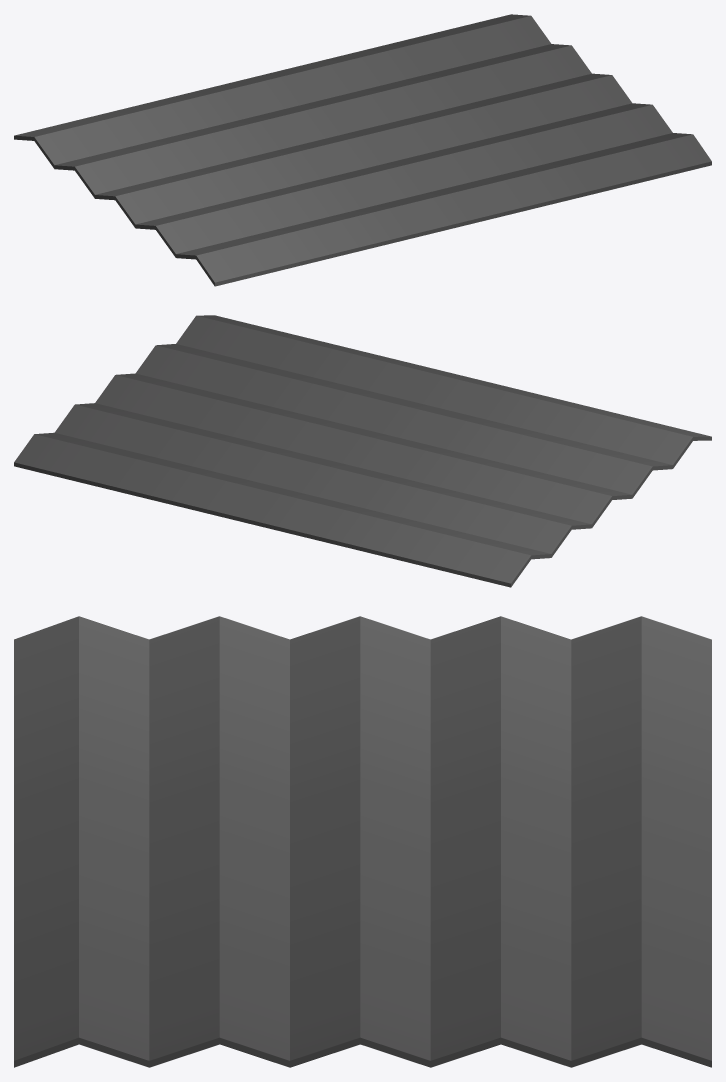
File: SheetMetal_A_1.fbx
3 views of the same model, one above another, from view 1: azimuth 30°, elevation 25°; view 2: azimuth 150°, elevation 25°; view 3: azimuth 270°, elevation 25° (orthographic). The views are drawn at different scales.
Visible parts, largest first — view 1: SheetMetal_A_1; view 2: SheetMetal_A_1; view 3: SheetMetal_A_1.
Boxes of the visible parts, x1,y1,x2,y2 form: SheetMetal_A_1: (14,14,711,286); SheetMetal_A_1: (14,315,711,587); SheetMetal_A_1: (14,616,711,1067).
Bounding box in the file's own units: 137 × 4.58 × 96.05.
